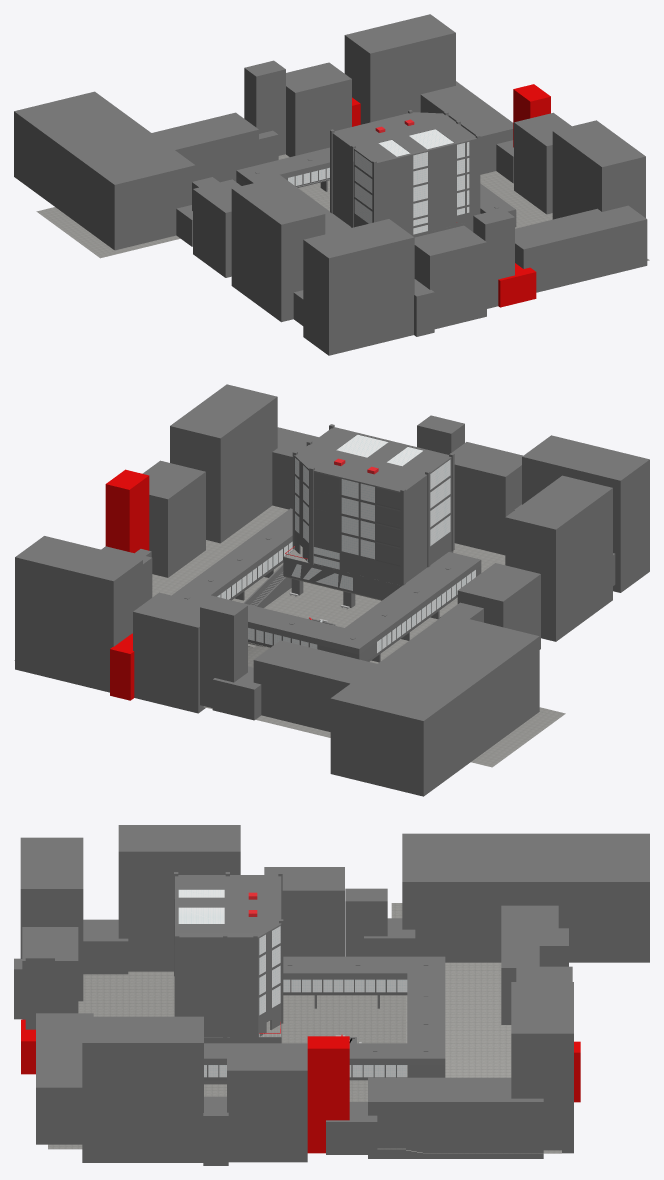
File: level4.FBX
3 views of the same model, one above another, from view 1: azimuth 30°, elevation 25°; view 2: azimuth 150°, elevation 25°; view 3: azimuth 270°, elevation 25° (orthographic). The views are drawn at different scales.
Visible parts, largest first — view 1: white_buildings, big_walls, windows_l005, stair_pillars, ground_, red_buildings, corridor; view 2: white_buildings, big_walls, stair_pillars, ground_, windows_l005, red_buildings, corridor, base_walls; view 3: white_buildings, ground_, big_walls, stair_pillars, red_buildings, windows_l005, corridor, base_walls.
Boxes of the visible parts, x1,y1,x2,y2 form: white_buildings: (14,14,647,355); big_walls: (332,112,478,235); windows_l005: (288,129,480,234); stair_pillars: (236,110,516,234); ground_: (36,154,649,260); red_buildings: (352,84,550,307); corridor: (236,162,516,227); white_buildings: (15,384,649,796); big_walls: (294,427,451,585); stair_pillars: (172,424,481,662); ground_: (14,505,565,767); windows_l005: (217,434,475,652); red_buildings: (105,469,149,700); corridor: (211,535,481,661); base_walls: (283,549,453,599); white_buildings: (14,825,649,1165); ground_: (48,903,561,1153); big_walls: (174,875,281,1037); stair_pillars: (174,872,445,1084); red_buildings: (21,1019,580,1153); windows_l005: (178,889,407,1077); corridor: (204,973,445,1080); base_walls: (204,1024,281,1043).
Size of the model in its own units: 140 by 39.16 by 147.
